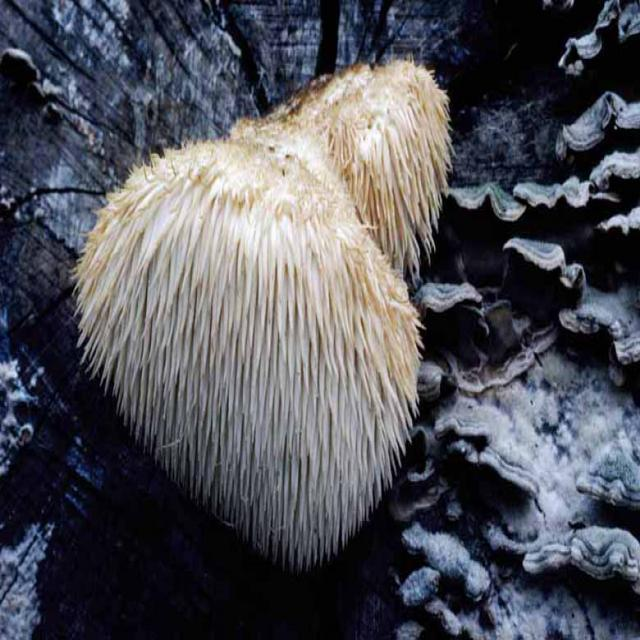Hericium erinaceus: (79, 62, 453, 562)
